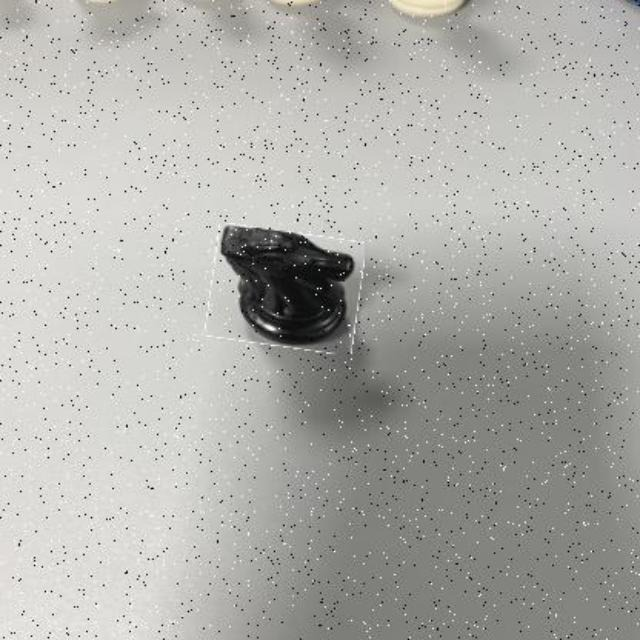black-knight: (209, 227, 363, 350)
